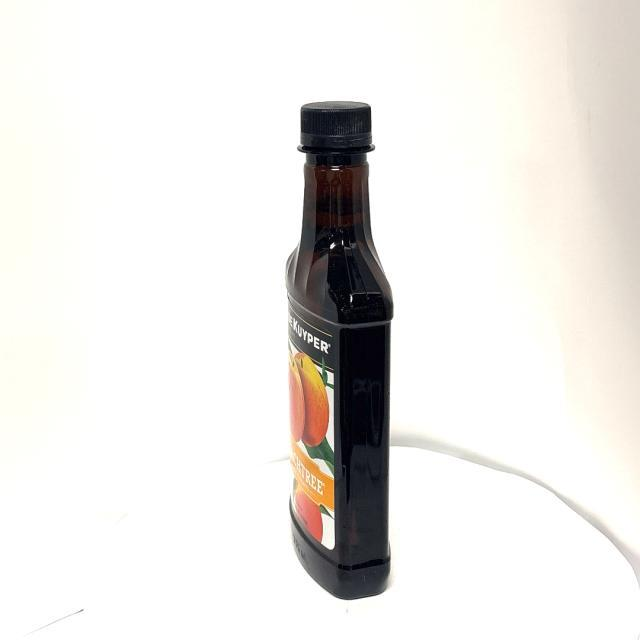DEKUYPER PEACHTREE 375ML: (284, 100, 395, 603)
